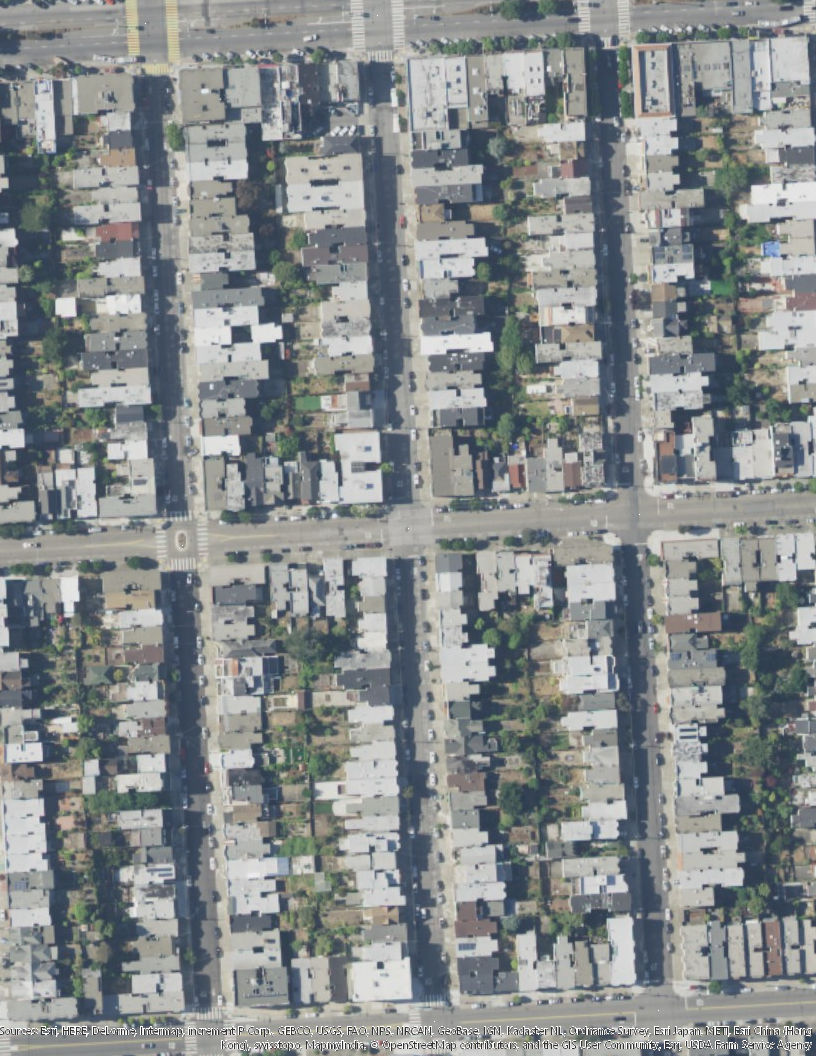zebracross: (164, 1, 181, 63), (348, 1, 367, 53), (124, 1, 141, 55), (390, 1, 407, 53), (615, 1, 632, 38), (196, 521, 211, 557), (575, 1, 592, 32), (166, 558, 197, 571), (138, 63, 171, 75), (365, 50, 395, 63), (155, 528, 167, 560), (167, 510, 194, 524), (421, 994, 449, 1007), (195, 1008, 225, 1019), (803, 1, 816, 26), (183, 1034, 199, 1054), (408, 1008, 421, 1027), (1, 1035, 11, 1055)
